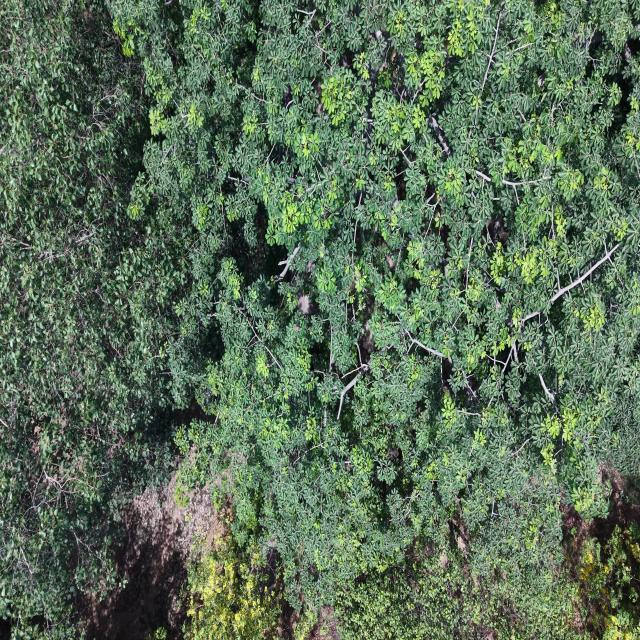VEGETATION_TREE: (0, 0, 639, 639), (113, 0, 639, 605), (0, 0, 193, 635)
